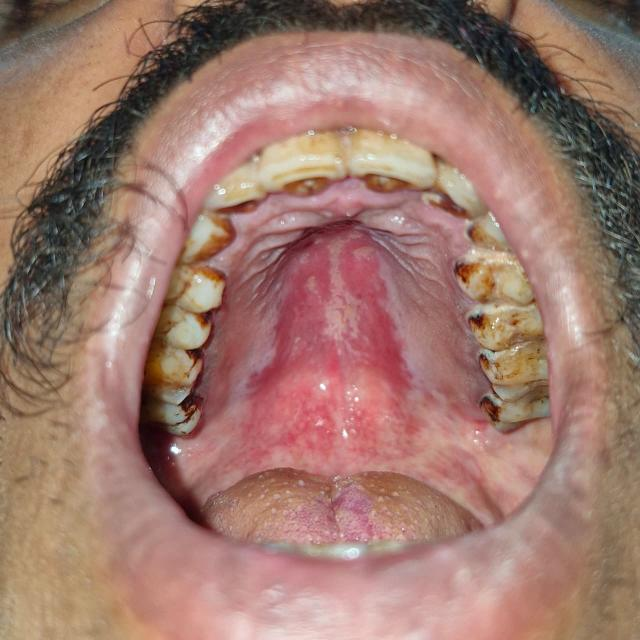leukoplakia-like-detection: (166, 190, 552, 528)
processing_area: (161, 195, 551, 538)
